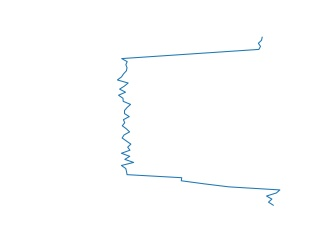distributaryChannelFill: (113, 37, 283, 206)
